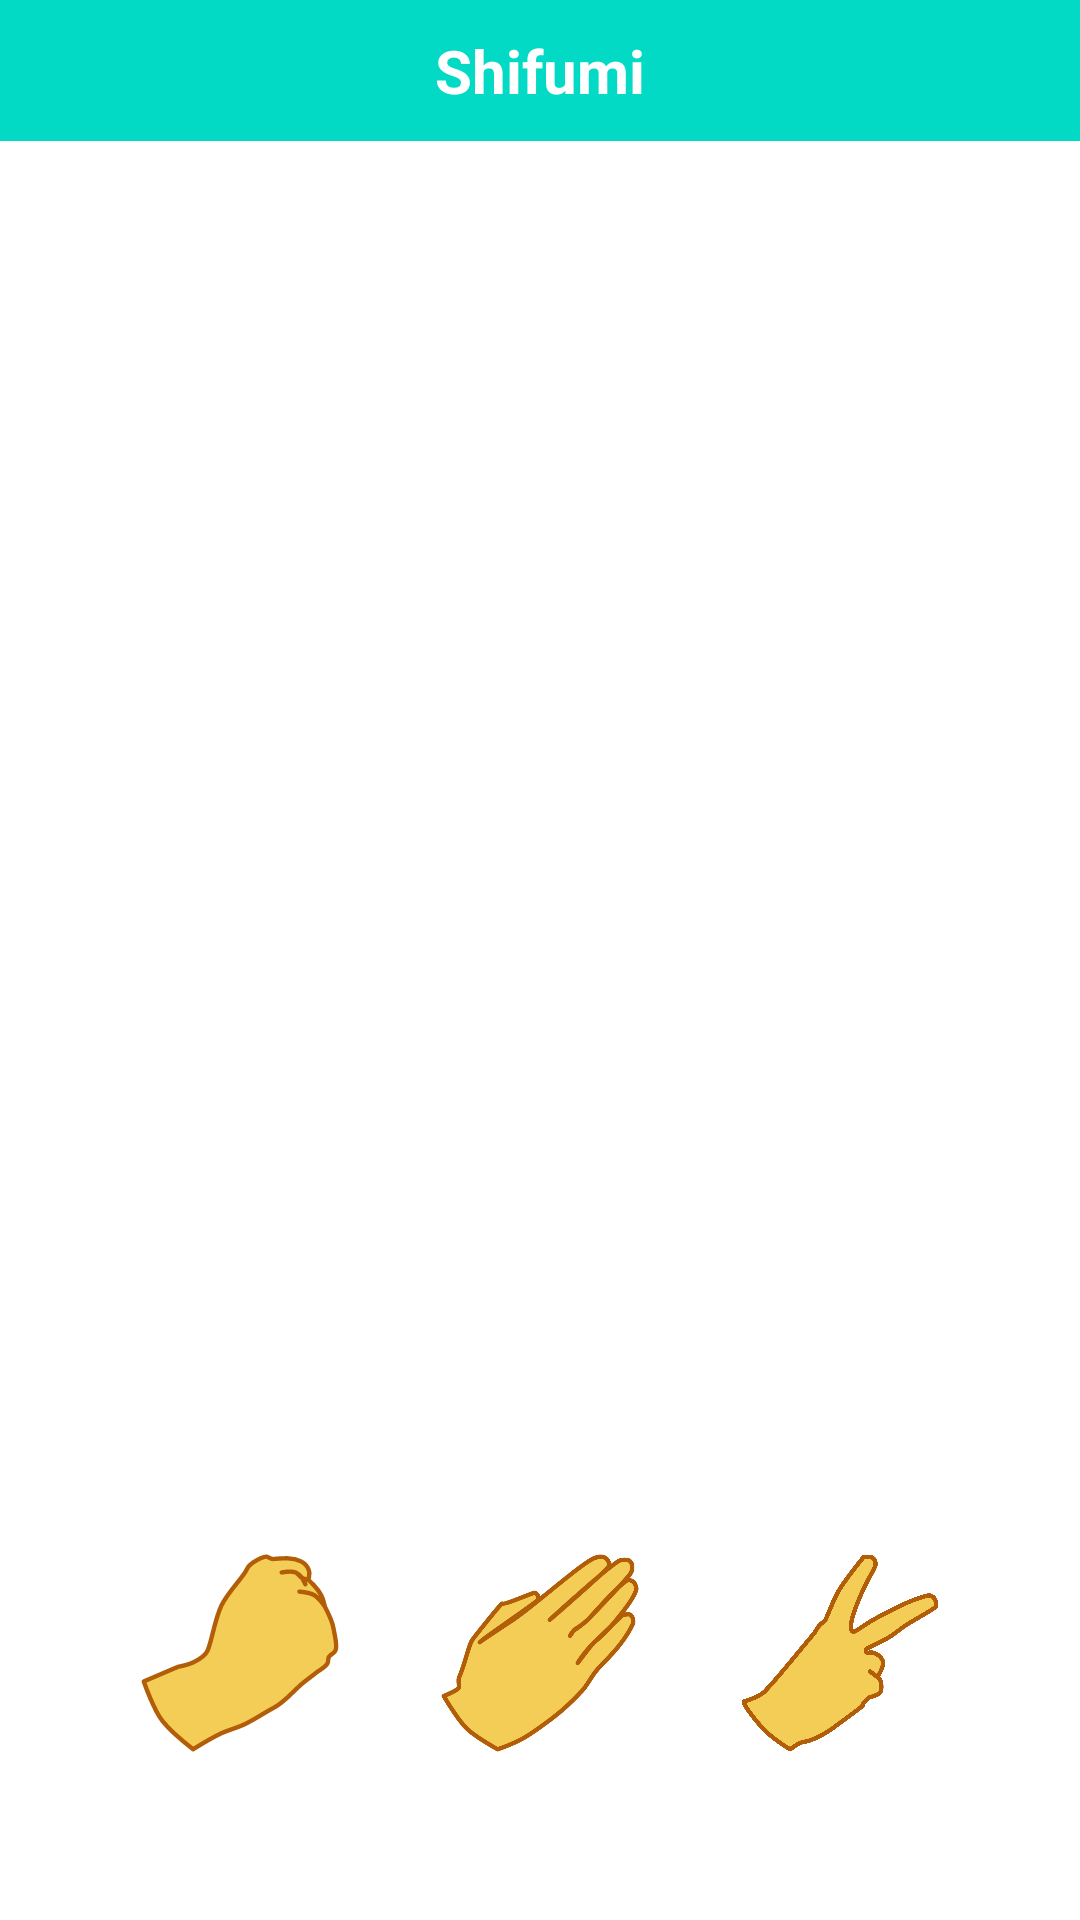

Icons on this 1080 x 1920 Android screen, each with the point to tap as (x=x, y=y):
paper: (x=540, y=1653)
rock: (x=240, y=1653)
scissors: (x=840, y=1653)
